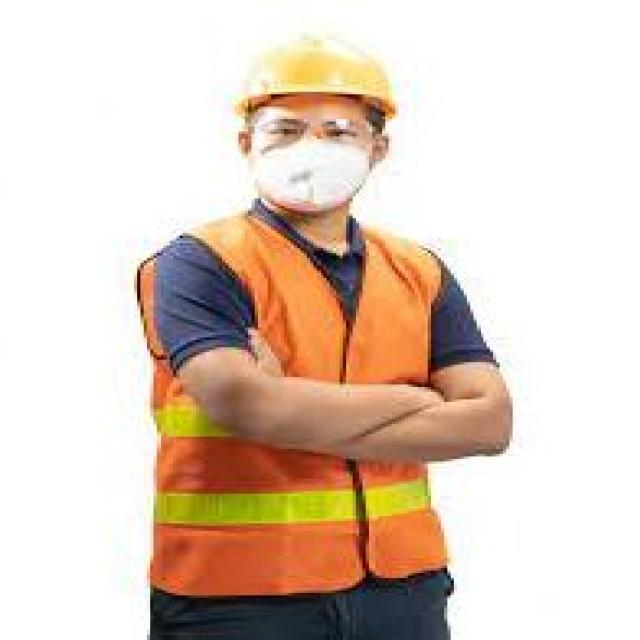Reflective-Jacket: (131, 206, 457, 603)
Safety-Helmet: (206, 25, 408, 119)
